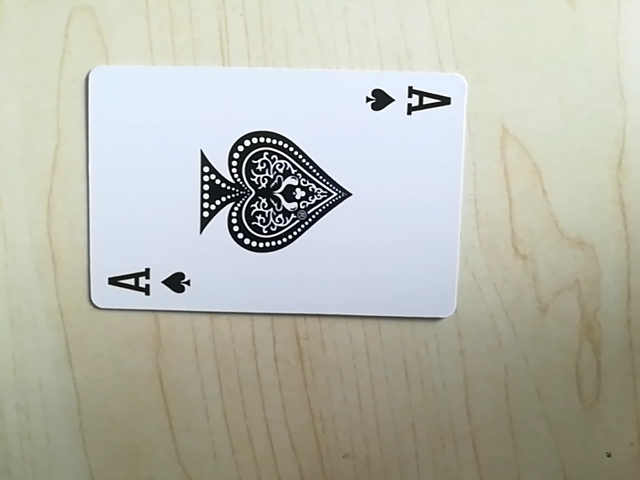ht a: (359, 82, 453, 125), (101, 261, 195, 302)
